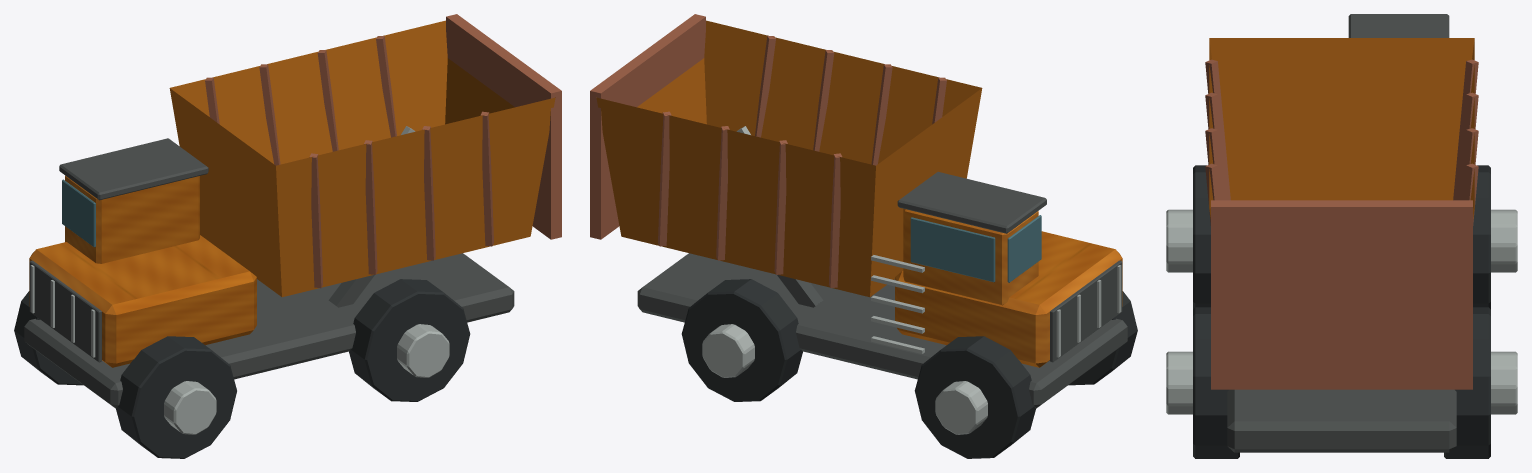
File: quarry-haul-lod-packed.glb
The picture shows the model from 3 angles, left to right: view 1: azimuth 30°, elevation 25°; view 2: azimuth 150°, elevation 25°; view 3: azimuth 270°, elevation 25°; orthographic projection. The views are drawn at different scales.
Parts seen in each view (by area): view 1: 01 quarry safety ochre / chipped enamel • merged manufacture, 04 oiled machinery / shadow steel • merged manufactured asse, 05 deep tire rubber • merged manufactured assembly, 02 weathered red oxide structural steel • merged manufacture, 03 dusted galvanized steel • merged manufactured assembly, 06 dirty blue cab glass • merged manufactured assembly; view 2: 01 quarry safety ochre / chipped enamel • merged manufacture, 04 oiled machinery / shadow steel • merged manufactured asse, 05 deep tire rubber • merged manufactured assembly, 02 weathered red oxide structural steel • merged manufacture, 03 dusted galvanized steel • merged manufactured assembly, 06 dirty blue cab glass • merged manufactured assembly; view 3: 02 weathered red oxide structural steel • merged manufacture, 01 quarry safety ochre / chipped enamel • merged manufacture, 04 oiled machinery / shadow steel • merged manufactured asse, 05 deep tire rubber • merged manufactured assembly, 03 dusted galvanized steel • merged manufactured assembly.
Boxes of the visible parts, x1,y1,x2,y2 form: 01 quarry safety ochre / chipped enamel • merged manufacture: [29, 20, 555, 367]; 04 oiled machinery / shadow steel • merged manufactured asse: [24, 138, 514, 408]; 05 deep tire rubber • merged manufactured assembly: [14, 279, 470, 458]; 02 weathered red oxide structural steel • merged manufacture: [205, 14, 561, 288]; 03 dusted galvanized steel • merged manufactured assembly: [30, 126, 449, 434]; 06 dirty blue cab glass • merged manufactured assembly: [62, 179, 95, 247]; 01 quarry safety ochre / chipped enamel • merged manufacture: [596, 20, 1122, 367]; 04 oiled machinery / shadow steel • merged manufactured asse: [637, 171, 1127, 408]; 05 deep tire rubber • merged manufactured assembly: [681, 279, 1137, 458]; 02 weathered red oxide structural steel • merged manufacture: [590, 14, 946, 288]; 03 dusted galvanized steel • merged manufactured assembly: [702, 126, 1121, 434]; 06 dirty blue cab glass • merged manufactured assembly: [910, 215, 1041, 282]; 02 weathered red oxide structural steel • merged manufacture: [1205, 59, 1478, 389]; 01 quarry safety ochre / chipped enamel • merged manufacture: [1209, 38, 1474, 218]; 04 oiled machinery / shadow steel • merged manufactured asse: [1227, 14, 1456, 452]; 05 deep tire rubber • merged manufactured assembly: [1193, 165, 1490, 458]; 03 dusted galvanized steel • merged manufactured assembly: [1166, 209, 1517, 414].
Size of the model in its own units: 11.52 by 6.64 by 6.28.
Materials: 6 (1 with a texture image).
